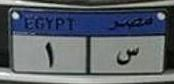1: (43, 40, 57, 70)
seen: (114, 47, 143, 70)
